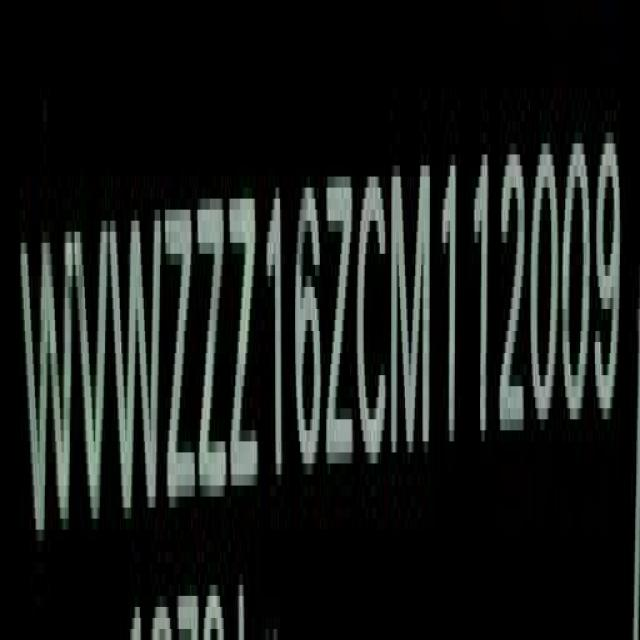0: (532, 144, 560, 436), (564, 134, 592, 424)
1: (266, 182, 289, 497), (440, 146, 458, 461), (470, 146, 488, 455)
2: (167, 200, 195, 522), (501, 146, 528, 442)
6: (295, 172, 322, 488)
9: (597, 133, 623, 420)
C: (360, 164, 388, 472)
M: (394, 154, 431, 463)
V: (74, 217, 111, 523)
W: (111, 205, 163, 531), (22, 229, 70, 552)
Z: (230, 192, 260, 500), (199, 192, 227, 512), (326, 161, 353, 481)
